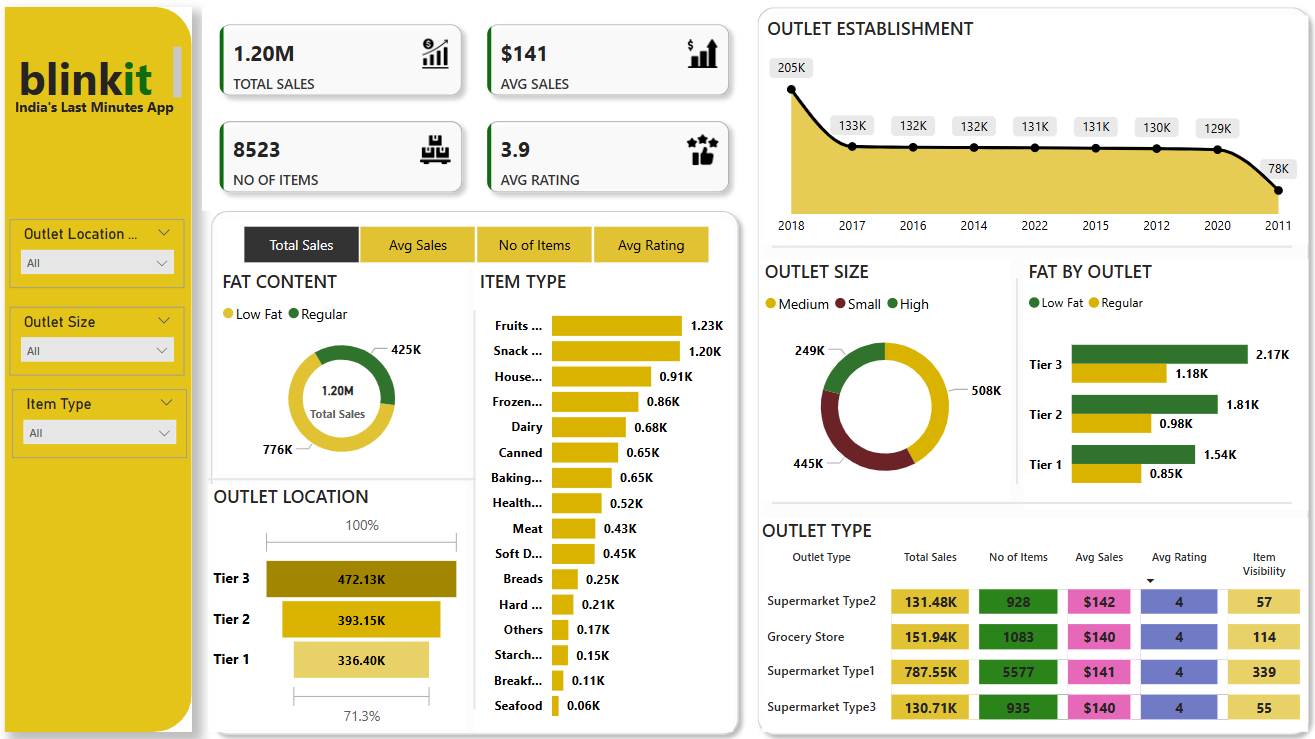

This screenshot's page, from the dashboard's own definition file:
{"tool":"powerbi","page":{"name":"Page 1","canvas":[1280,720],"ordinal":0},"visuals":[{"type":"shape","box":[12.1,8.4,181,699.7],"z":0},{"type":"textbox","box":[20.5,42.2,167.7,62.7],"z":1000},{"type":"textbox","box":[16.9,90.5,176.1,30.2],"z":2000},{"type":"cardVisual","fields":{"Data":["BlinkIT Grocery Data.Total Sales","BlinkIT Grocery Data.Avg Sales","BlinkIT Grocery Data.No of Items","BlinkIT Grocery Data.Avg Rating"]},"box":[202.7,8.4,527.2,196.6],"z":3000},{"type":"shape","box":[202.7,196.6,527.2,523.6],"z":4000},{"type":"slicer","fields":{"Values":["Metrix.Metrix"]},"box":[217.2,213.5,498.3,48.3],"z":5000},{"type":"donutChart","title":"FAT CONTENT","fields":{"Y":["BlinkIT Grocery Data.Total Sales"],"Category":["BlinkIT Grocery Data.Item Fat Content"]},"box":[217.2,261.8,241.3,197.9],"z":6000},{"type":"barChart","title":"ITEM TYPE","fields":{"Y":["BlinkIT Grocery Data.Total Sales"],"Category":["BlinkIT Grocery Data.Item Type"]},"box":[465.7,261.8,249.7,446.4],"z":7000},{"type":"card","fields":{"Values":["BlinkIT Grocery Data.Total Sales"]},"box":[282.3,316.1,102.5,143.6],"z":8000},{"type":"shape","box":[729.9,0,550.1,720.2],"z":9000},{"type":"donutChart","title":"OUTLET SIZE","fields":{"Y":["BlinkIT Grocery Data.Total Sales"],"Category":["BlinkIT Grocery Data.Outlet Size"]},"box":[740.8,252.1,242.5,232.8],"z":10000},{"type":"funnel","title":"OUTLET LOCATION","fields":{"Y":["BlinkIT Grocery Data.Total Sales"],"Category":["BlinkIT Grocery Data.Outlet Location Type"]},"box":[208.7,469.3,249.7,238.9],"z":11000},{"type":"pivotTable","title":"OUTLET TYPE","fields":{"Rows":["BlinkIT Grocery Data.Outlet Type"],"Values":["BlinkIT Grocery Data.Total Sales","BlinkIT Grocery Data.No of Items","BlinkIT Grocery Data.Avg Sales","BlinkIT Grocery Data.Avg Rating","Sum(BlinkIT Grocery Data.Item Visibility)"]},"box":[743.2,501.9,527.2,206.3],"z":12000},{"type":"clusteredBarChart","title":"FAT BY OUTLET","fields":{"Y":["BlinkIT Grocery Data.Total Sales"],"Category":["BlinkIT Grocery Data.Outlet Location Type"],"Series":["BlinkIT Grocery Data.Item Fat Content"]},"box":[995.3,252.1,275.1,242.5],"z":13000},{"type":"areaChart","title":"OUTLET ESTABLISHMENT","fields":{"Y":["BlinkIT Grocery Data.Total Sales"],"Category":["BlinkIT Grocery Data.Outlet Establishment Year"]},"box":[743.2,16.9,527.2,220.8],"z":14000},{"type":"shape","box":[208.7,459.7,258.2,9.7],"z":15000},{"type":"shape","box":[459.7,301.6,12.1,384.9],"z":16000},{"type":"shape","box":[983.2,270.2,12.1,199.1],"z":17000},{"type":"slicer","fields":{"Values":["BlinkIT Grocery Data.Outlet Size"]},"box":[16.9,298,168.9,66.4],"z":18000},{"type":"slicer","fields":{"Values":["BlinkIT Grocery Data.Outlet Location Type"]},"box":[16.9,213.5,168.9,66.4],"z":19000},{"type":"slicer","fields":{"Values":["BlinkIT Grocery Data.Item Type"]},"box":[19.3,377.6,168.9,66.4],"z":20000},{"type":"shape","box":[752.8,232.8,501.9,14.5],"z":21000},{"type":"shape","box":[752.8,480.2,501.9,14.5],"z":22000}]}

Visuals, with their boxes in screenshot pixels (x1, y1, x2, y2), scaled from the page's 1280x720 canvas onto the 1315x739 screenshot:
shape: {"x1": 12, "y1": 9, "x2": 198, "y2": 727}
textbox: {"x1": 21, "y1": 43, "x2": 193, "y2": 108}
textbox: {"x1": 17, "y1": 93, "x2": 198, "y2": 124}
cardVisual - BlinkIT Grocery Data.Total Sales x BlinkIT Grocery Data.Avg Sales: {"x1": 208, "y1": 9, "x2": 750, "y2": 210}
shape: {"x1": 208, "y1": 202, "x2": 750, "y2": 738}
slicer - Metrix.Metrix: {"x1": 223, "y1": 219, "x2": 735, "y2": 269}
"FAT CONTENT" donutChart: {"x1": 223, "y1": 269, "x2": 471, "y2": 472}
"ITEM TYPE" barChart: {"x1": 478, "y1": 269, "x2": 735, "y2": 727}
card - BlinkIT Grocery Data.Total Sales: {"x1": 290, "y1": 324, "x2": 395, "y2": 472}
shape: {"x1": 750, "y1": 0, "x2": 1314, "y2": 738}
"OUTLET SIZE" donutChart: {"x1": 761, "y1": 259, "x2": 1010, "y2": 498}
"OUTLET LOCATION" funnel: {"x1": 214, "y1": 482, "x2": 471, "y2": 727}
"OUTLET TYPE" pivotTable: {"x1": 764, "y1": 515, "x2": 1305, "y2": 727}
"FAT BY OUTLET" clusteredBarChart: {"x1": 1023, "y1": 259, "x2": 1305, "y2": 508}
"OUTLET ESTABLISHMENT" areaChart: {"x1": 764, "y1": 17, "x2": 1305, "y2": 244}
shape: {"x1": 214, "y1": 472, "x2": 480, "y2": 482}
shape: {"x1": 472, "y1": 310, "x2": 485, "y2": 705}
shape: {"x1": 1010, "y1": 277, "x2": 1023, "y2": 482}
slicer - BlinkIT Grocery Data.Outlet Size: {"x1": 17, "y1": 306, "x2": 191, "y2": 374}
slicer - BlinkIT Grocery Data.Outlet Location Type: {"x1": 17, "y1": 219, "x2": 191, "y2": 287}
slicer - BlinkIT Grocery Data.Item Type: {"x1": 20, "y1": 388, "x2": 193, "y2": 456}
shape: {"x1": 773, "y1": 239, "x2": 1289, "y2": 254}
shape: {"x1": 773, "y1": 493, "x2": 1289, "y2": 508}
